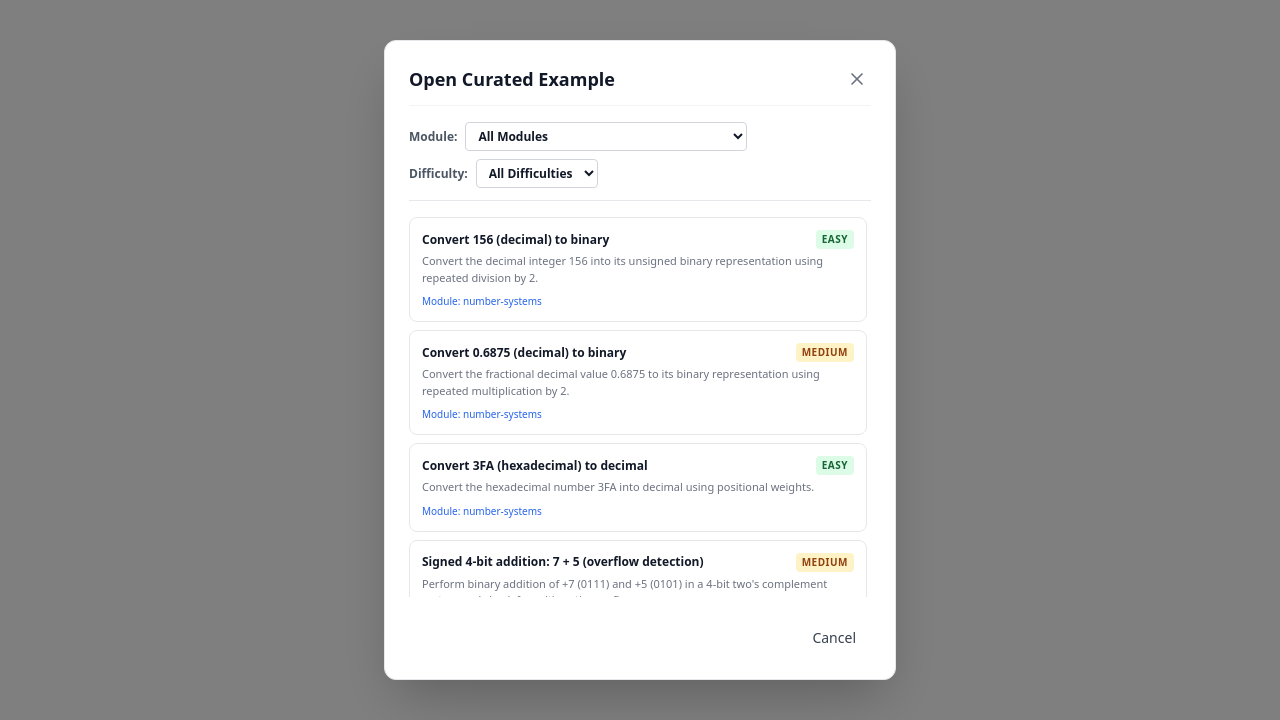
Test case: ExamplesMenu Component › filters problem list dynamically by difficulty tier
Select "Hard" in the dropdown named "Filter by Difficulty" at (537, 174), box 476,159 -> 598,188
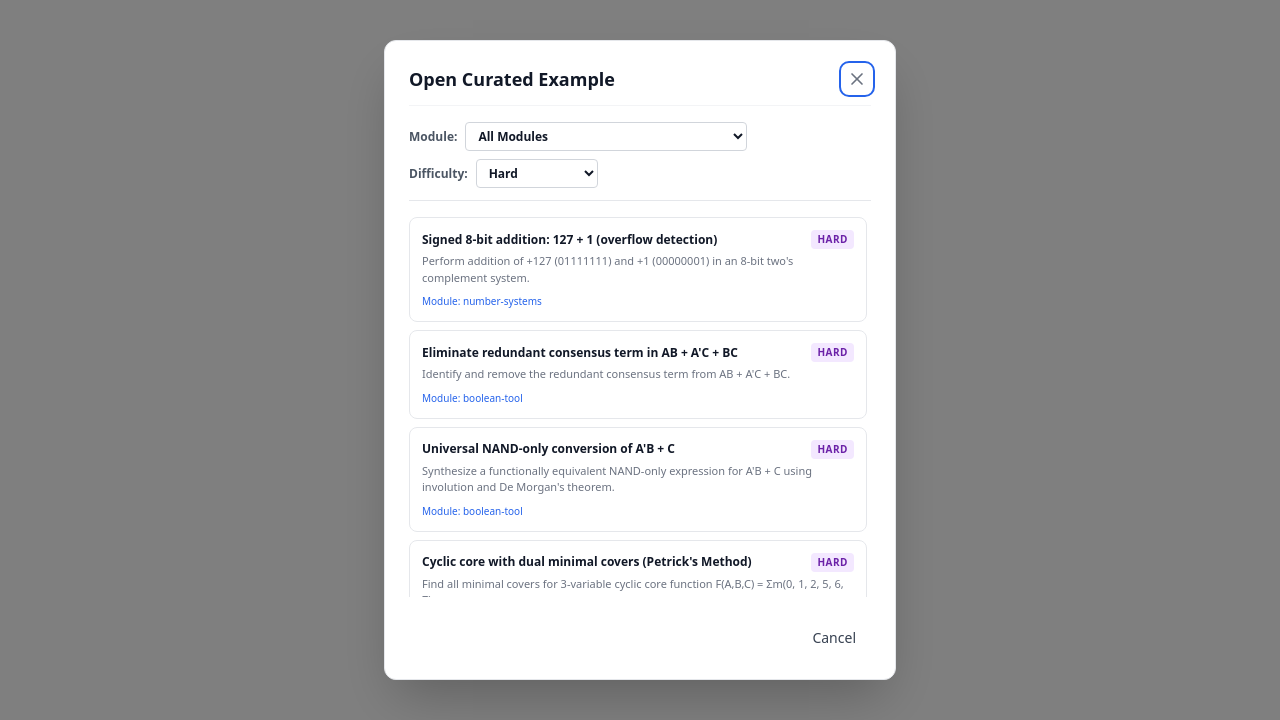
Expected: the button "easy" is gone
